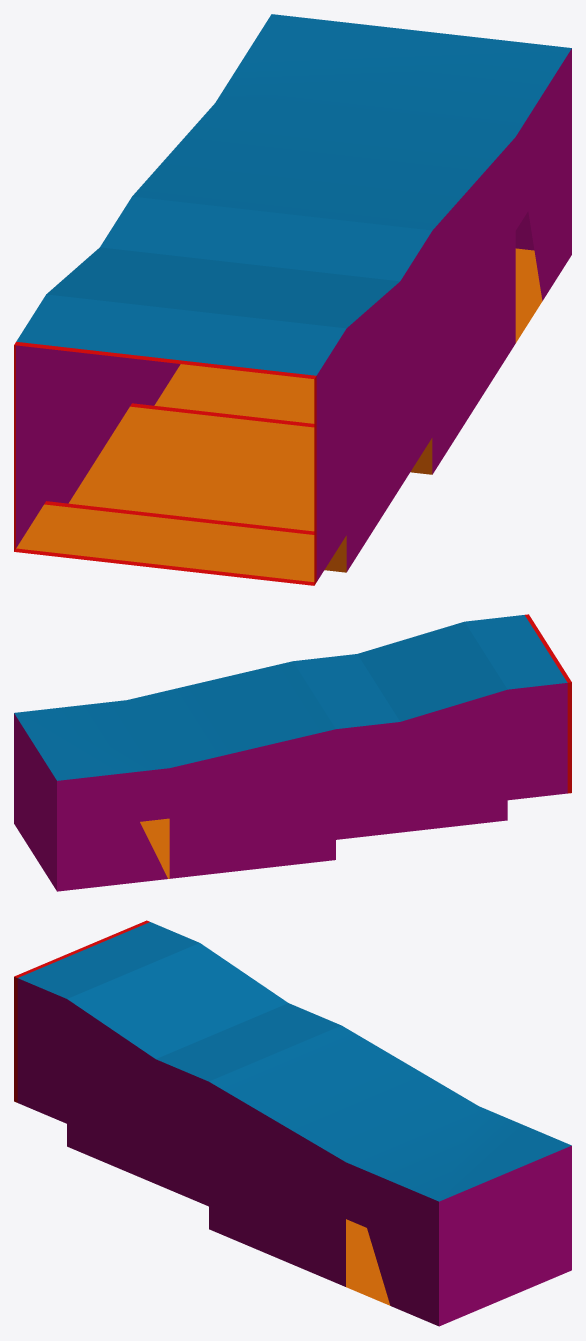
The model's file is Corridor_Lifts_v1.1.fbx.
The picture shows the model from 3 angles, top to bottom: view 1: azimuth 30°, elevation 25°; view 2: azimuth 150°, elevation 25°; view 3: azimuth 270°, elevation 25°; orthographic projection. The views are drawn at different scales.
Visible parts, largest first — view 1: polySurface2825; view 2: polySurface2825; view 3: polySurface2825.
Boxes of the visible parts, x1,y1,x2,y2 form: polySurface2825: (14, 14, 571, 585); polySurface2825: (14, 614, 571, 891); polySurface2825: (14, 920, 571, 1326).
Bounding box in the file's own units: 2227 × 750 × 2227.
